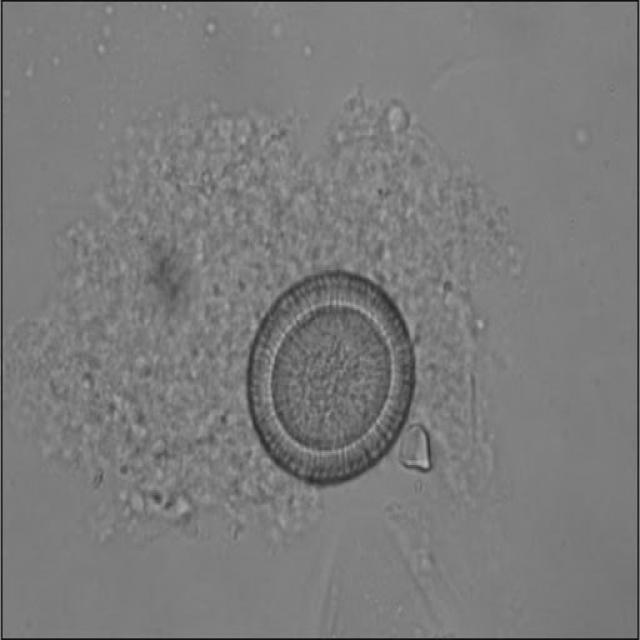Taenia Sp: (237, 260, 418, 488)
